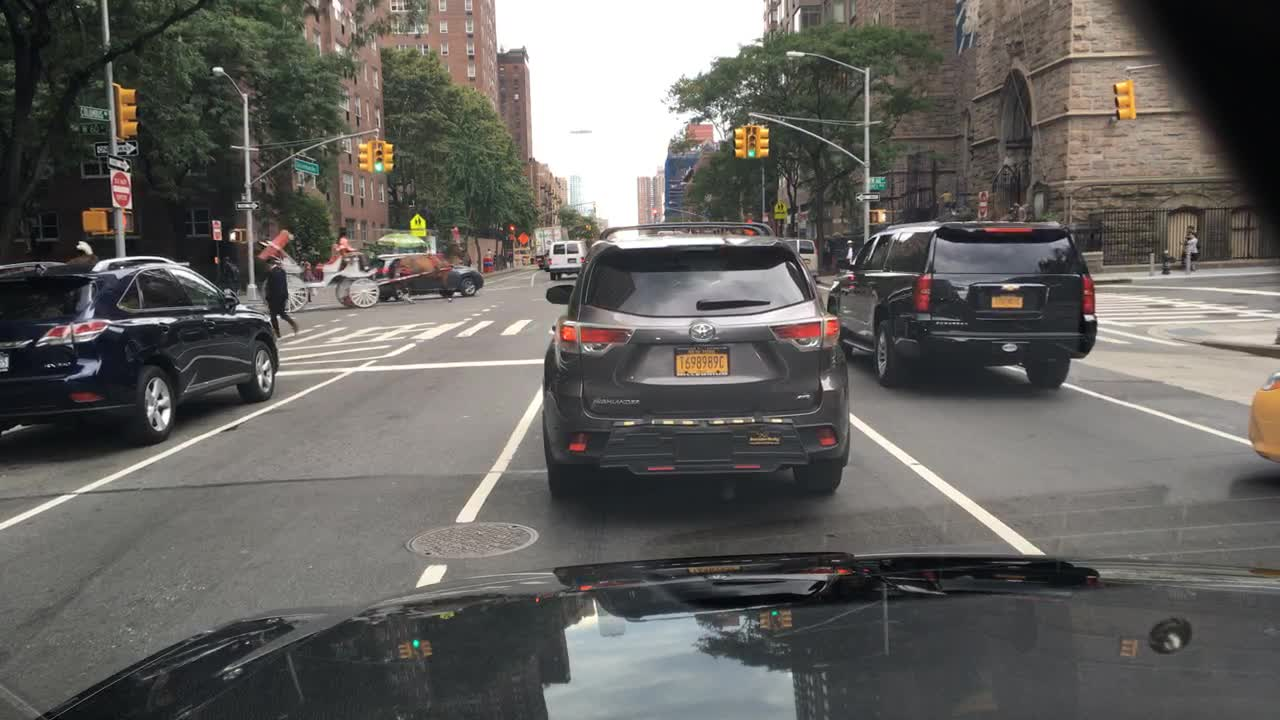car: (540, 221, 850, 511), (0, 250, 280, 446), (827, 219, 1098, 392), (265, 229, 379, 320), (370, 246, 482, 306), (1247, 366, 1278, 467), (546, 237, 589, 282), (785, 235, 820, 281)
person: (261, 252, 293, 342), (336, 226, 372, 275), (840, 237, 856, 276), (1182, 233, 1198, 269), (940, 188, 956, 213), (1182, 223, 1196, 251), (493, 248, 500, 264), (485, 247, 491, 261)
traffic light: (112, 83, 142, 140), (1112, 79, 1135, 119), (82, 206, 112, 233), (756, 125, 770, 158), (745, 123, 758, 158), (733, 124, 746, 157), (356, 139, 368, 168), (383, 140, 394, 170), (372, 141, 382, 171), (869, 209, 887, 222), (229, 229, 237, 245)
traffic sign: (110, 169, 133, 209), (94, 139, 137, 156), (77, 105, 109, 121), (292, 157, 320, 174), (104, 157, 132, 172), (410, 212, 426, 236), (853, 190, 879, 202), (977, 190, 987, 219), (209, 220, 223, 240), (772, 200, 787, 218), (79, 125, 108, 134), (868, 176, 886, 190), (236, 200, 260, 210), (518, 233, 529, 244)
truck: (533, 228, 566, 271)
